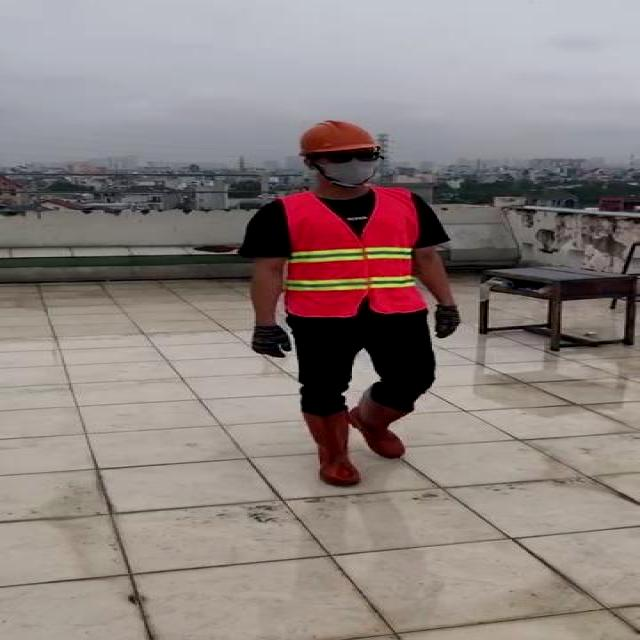boots: (347, 387, 414, 458), (304, 412, 364, 488)
face_mask: (316, 148, 384, 185)
glasses: (322, 146, 386, 166)
hand_glove: (428, 303, 469, 339), (249, 324, 291, 358)
head_helmet: (292, 119, 385, 158)
person: (238, 118, 466, 494)
vest: (278, 188, 430, 315)
